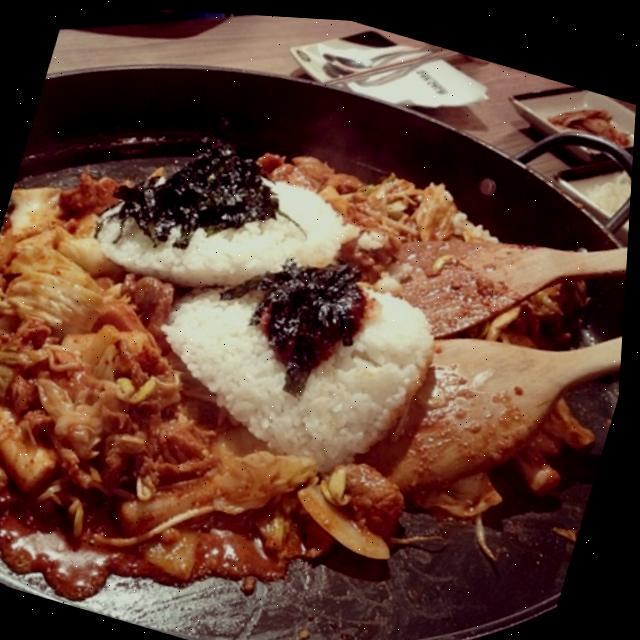鸡肉料理 含炸鸡: (0, 42, 636, 640)
